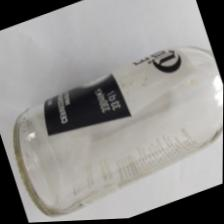glass: (0, 0, 222, 222)
